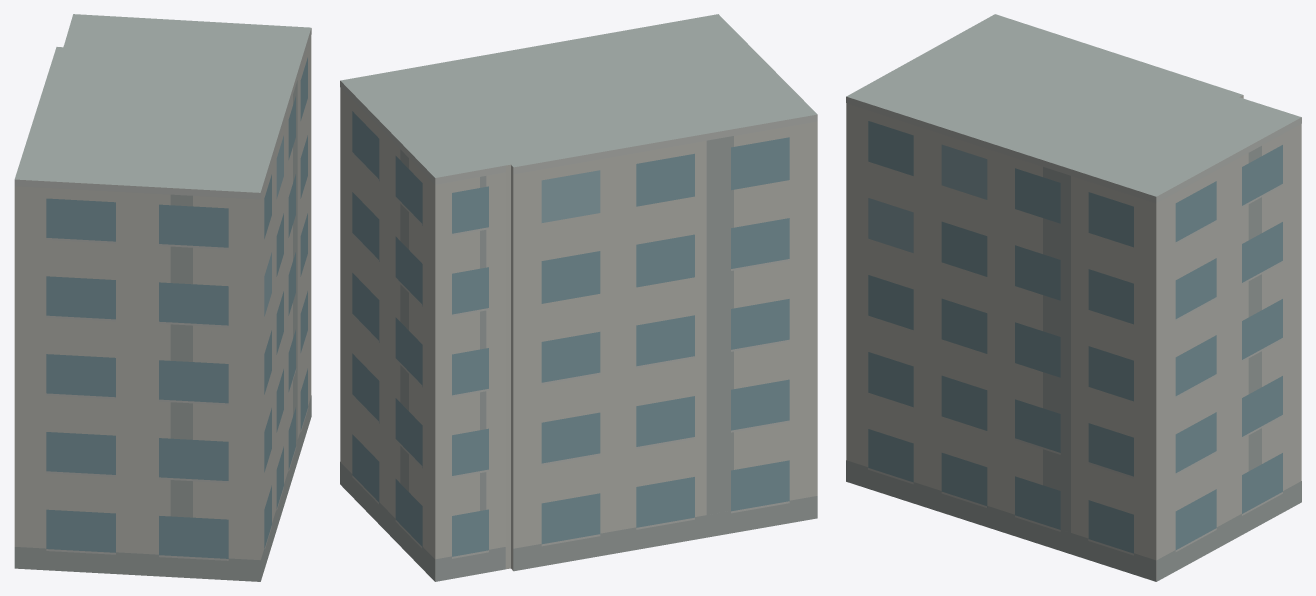
The model's file is survey-upis-32890396.glb.
3 renders of one model, left to right at view 1: azimuth 30°, elevation 25°; view 2: azimuth 150°, elevation 25°; view 3: azimuth 270°, elevation 25°, orthographic. The views are drawn at different scales.
Visible parts, largest first — view 1: survey-upis-32890396.tmp; view 2: survey-upis-32890396.tmp; view 3: survey-upis-32890396.tmp.
Part boxes in pixels (x1,y1,x2,y2): survey-upis-32890396.tmp: [14, 14, 311, 581]; survey-upis-32890396.tmp: [340, 14, 817, 581]; survey-upis-32890396.tmp: [846, 14, 1301, 581].
Size of the model in its own units: 14.62 by 14.35 by 15.39.
